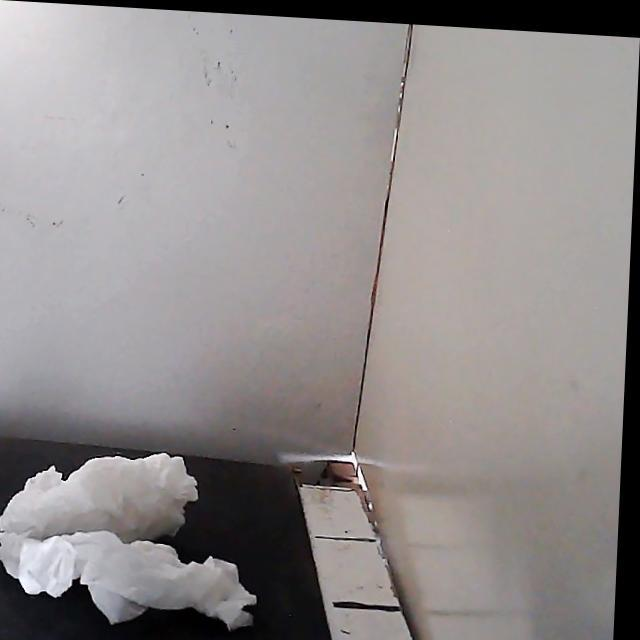papel: (0, 453, 255, 629)
